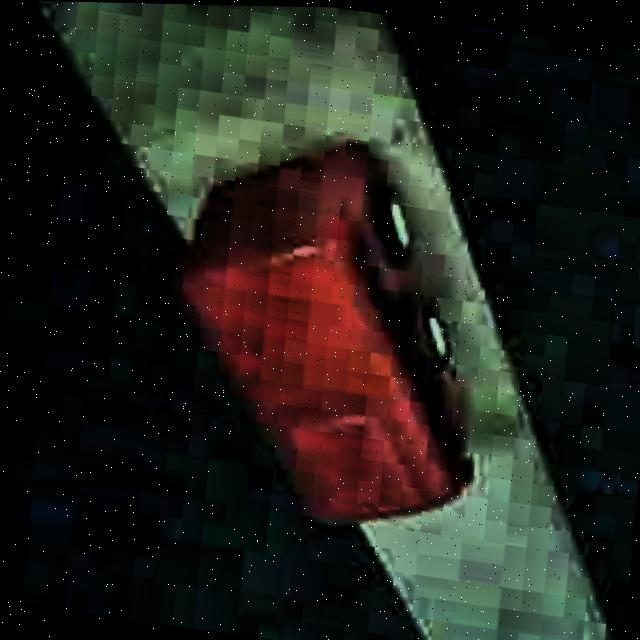bus: (145, 111, 516, 548)
